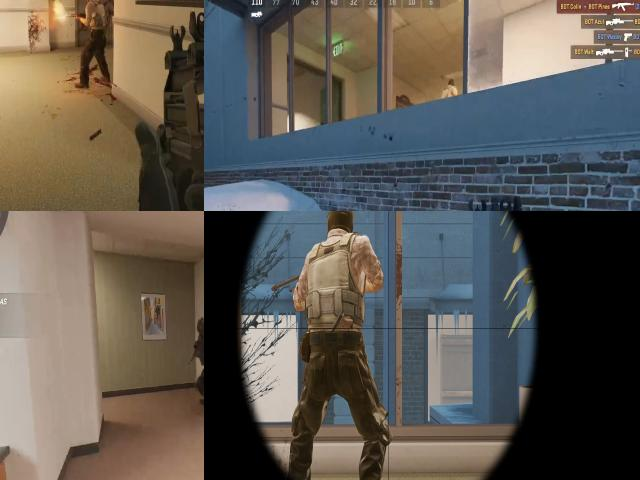CT: (190, 301, 204, 387)
CT-Head: (196, 314, 204, 336)
T: (294, 211, 379, 480), (79, 0, 109, 48), (441, 74, 460, 98)
T-Head: (326, 211, 355, 234), (446, 76, 458, 90), (82, 0, 99, 9)
